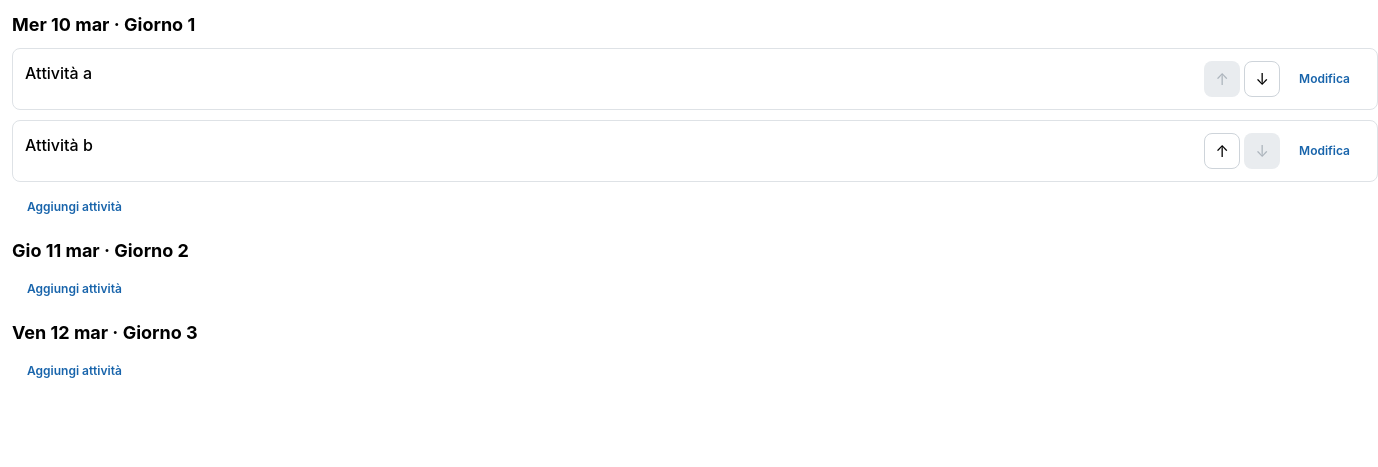
Scenario: shows an error when reordering fails and clears it on the next attempt
Click the button "↓" in the row of "Attività a". click: (1262, 79)
box: [1244,61,1280,97]
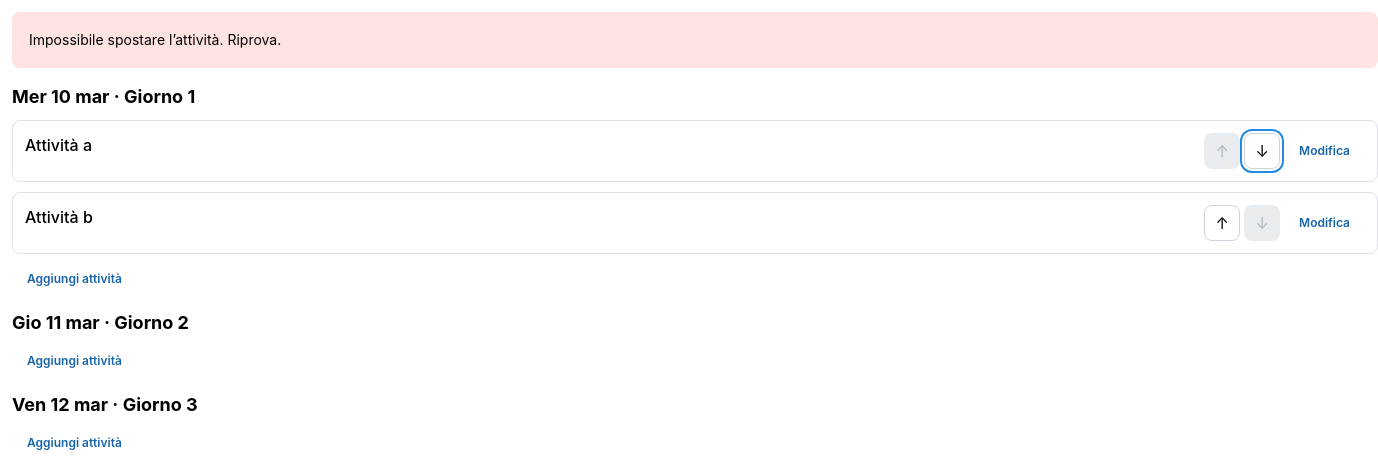
Expected: the message reads "Impossibile spostare l’attività. Riprova.", [29,31,281,48]
Click the button "↓" in the row of "Attività a". click: (1262, 151)
box: [1244,133,1280,169]
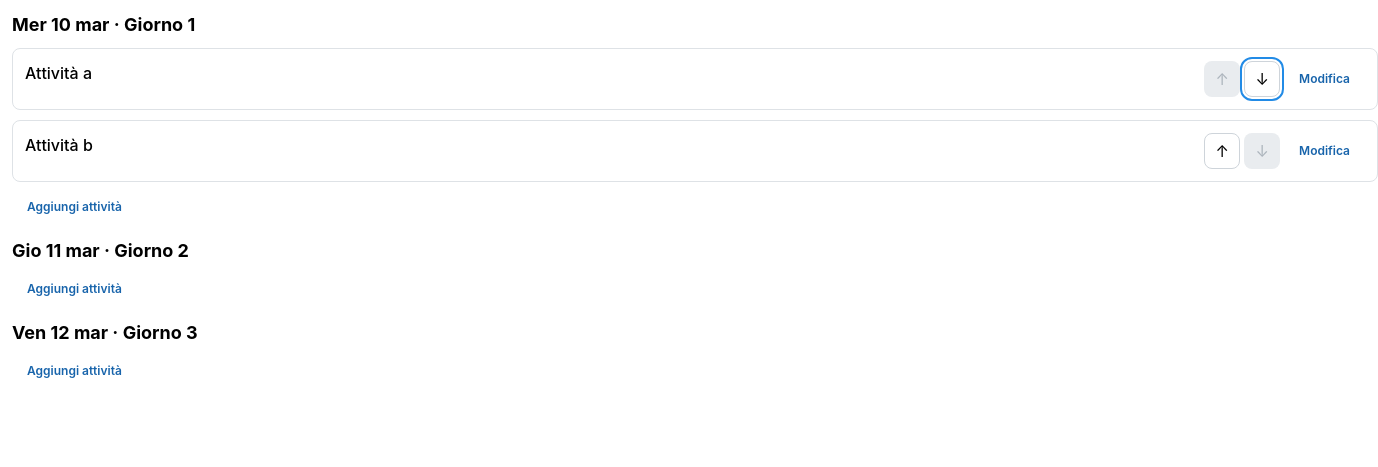
Expected: the message "Impossibile spostare l’attività. Riprova." is gone
